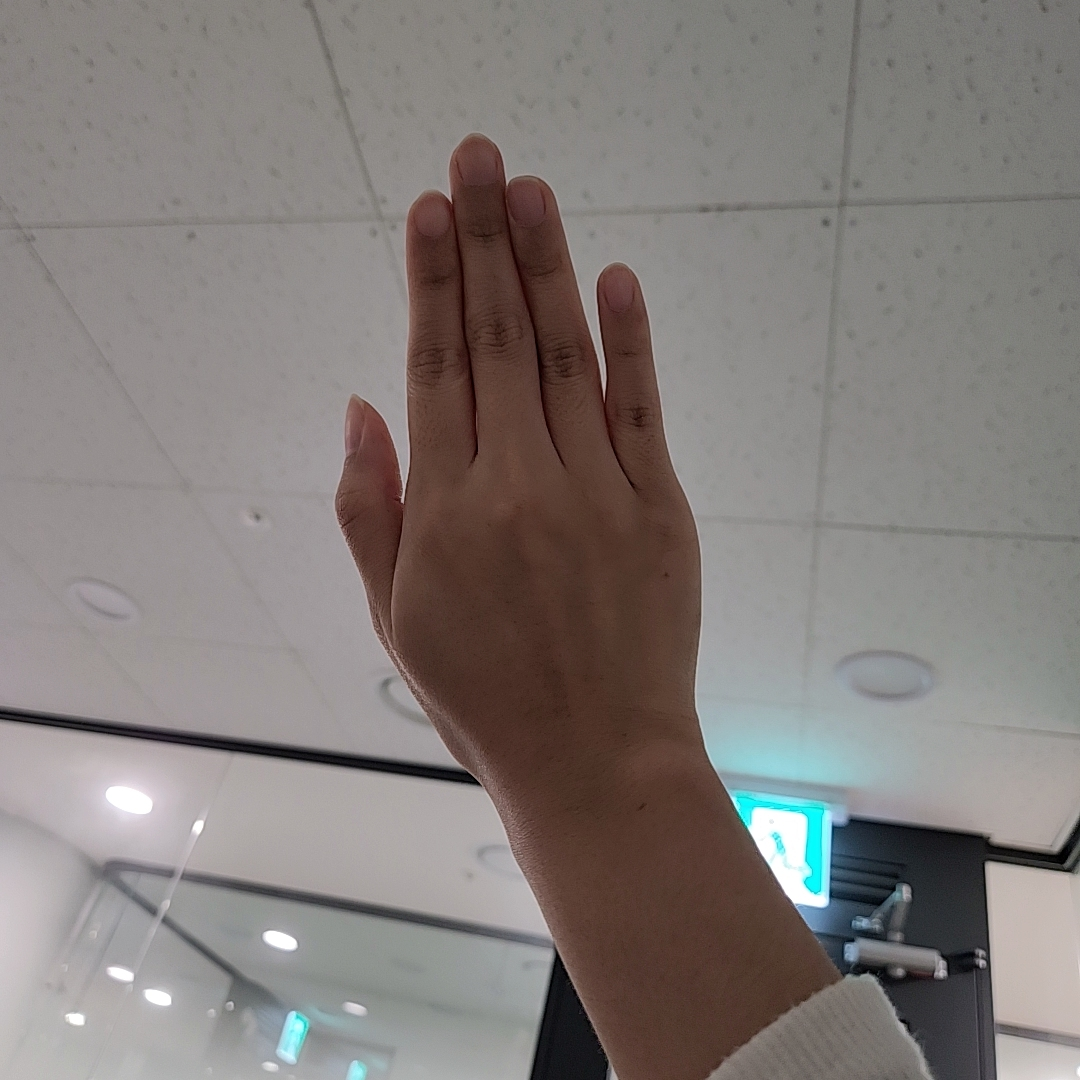me: (333, 131, 704, 789)
